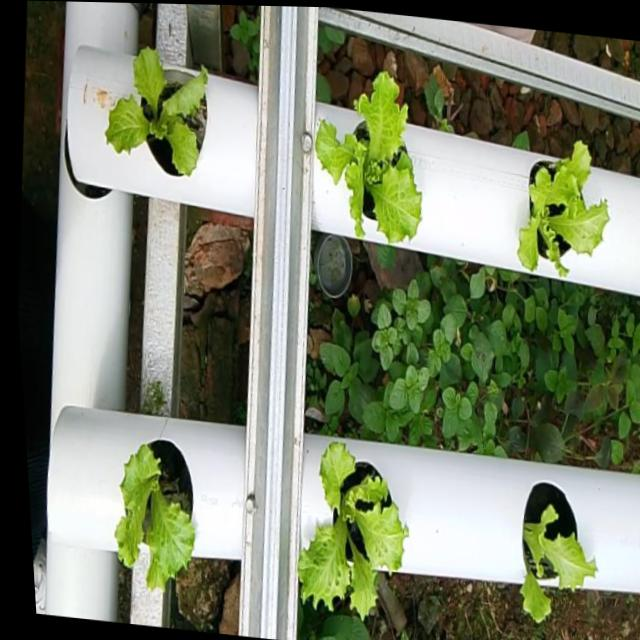Baby: (296, 442, 406, 622), (313, 72, 419, 244), (102, 47, 205, 178), (514, 140, 606, 276), (113, 440, 193, 590), (518, 479, 594, 620)
